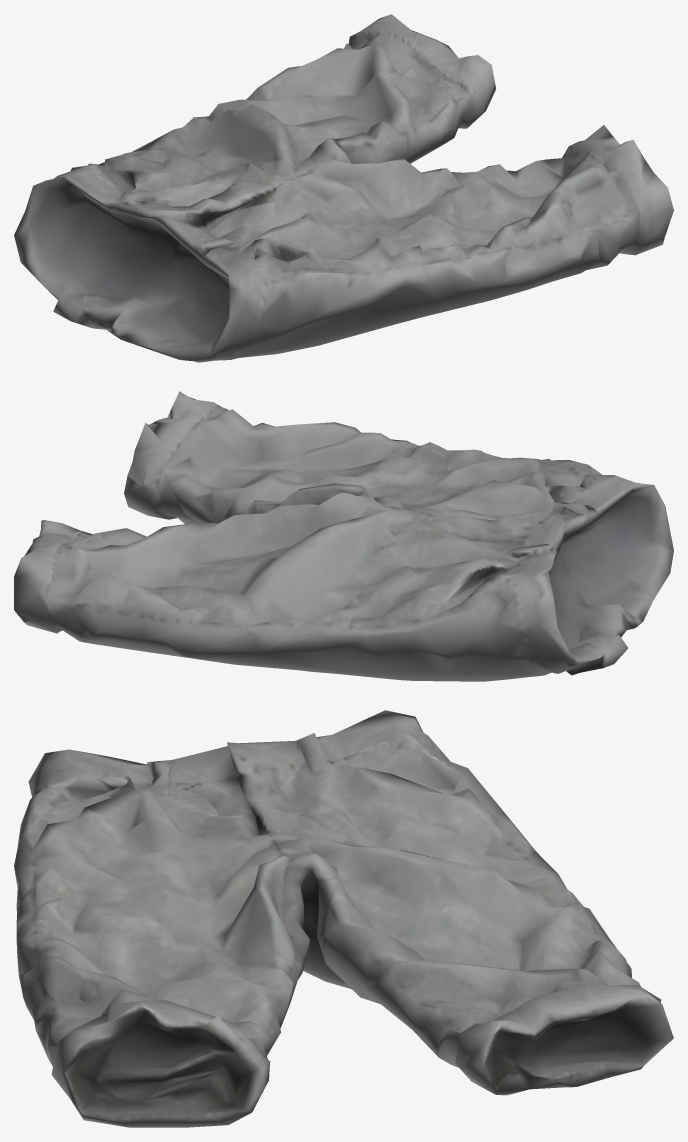
File: ground_trousers.7302dd4ce2.glb
3 views of the same model, one above another, from view 1: azimuth 30°, elevation 25°; view 2: azimuth 150°, elevation 25°; view 3: azimuth 270°, elevation 25° (orthographic). The views are drawn at different scales.
Parts seen in each view (by area): view 1: ground_trousers; view 2: ground_trousers; view 3: ground_trousers.
Part boxes in pixels (x1,y1,x2,y2): ground_trousers: [14, 14, 673, 362]; ground_trousers: [14, 391, 673, 681]; ground_trousers: [14, 710, 673, 1127].
Bounding box in the file's own units: 0.62 × 0.1636 × 0.5486.
Materials: 1 (1 with a texture image).
